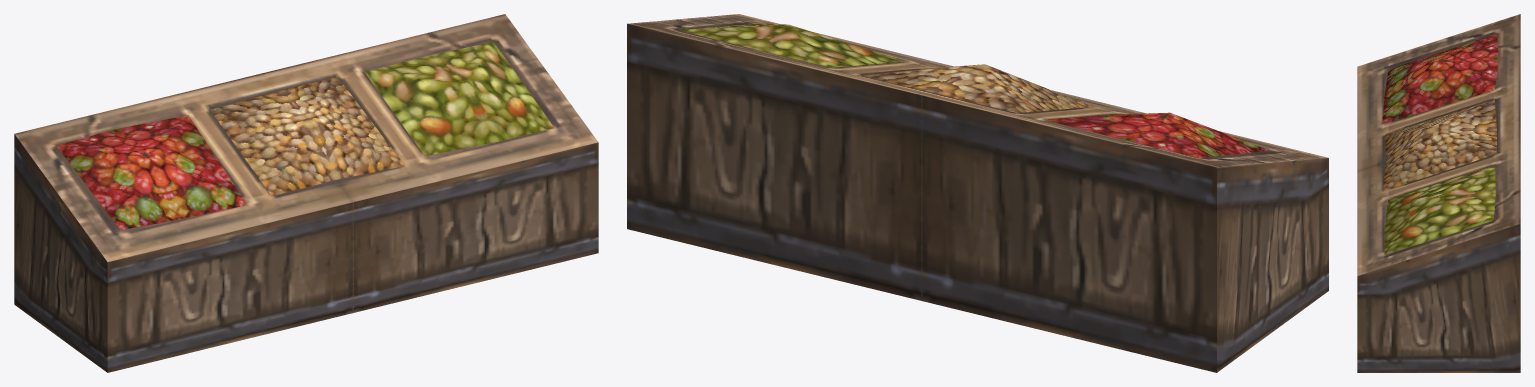
File: Z01_wujian_01.FBX
3 views of the same model, side by side, from view 1: azimuth 30°, elevation 25°; view 2: azimuth 150°, elevation 25°; view 3: azimuth 270°, elevation 25° (orthographic). The views are drawn at different scales.
Parts seen in each view (by area): view 1: 对象113; view 2: 对象113; view 3: 对象113.
Boxes of the visible parts, x1,y1,x2,y2 form: 对象113: (14,14,598,372); 对象113: (627,14,1328,372); 对象113: (1357,14,1520,372).
Size of the model in its own units: 1.95 by 0.6491 by 0.6424.
1 material, 1 textured.
